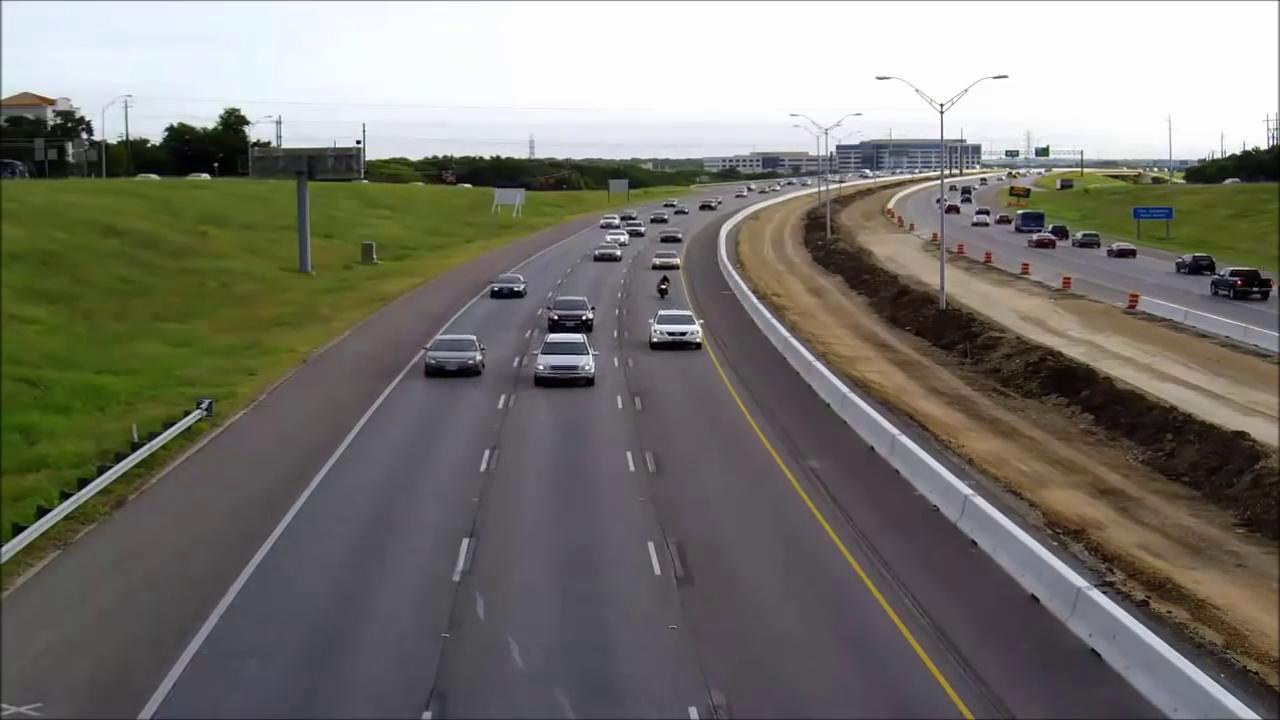car: (525, 336, 598, 386), (424, 335, 487, 376), (648, 312, 704, 353), (546, 295, 593, 330), (488, 274, 527, 298), (1175, 254, 1215, 274), (652, 252, 683, 271), (1105, 244, 1137, 261), (1027, 235, 1060, 250), (1073, 231, 1102, 247), (592, 249, 624, 262), (969, 211, 993, 228), (656, 230, 686, 243), (601, 230, 625, 244), (649, 213, 671, 224), (695, 203, 719, 212)
truck: (1206, 266, 1273, 300), (1014, 211, 1048, 234)
